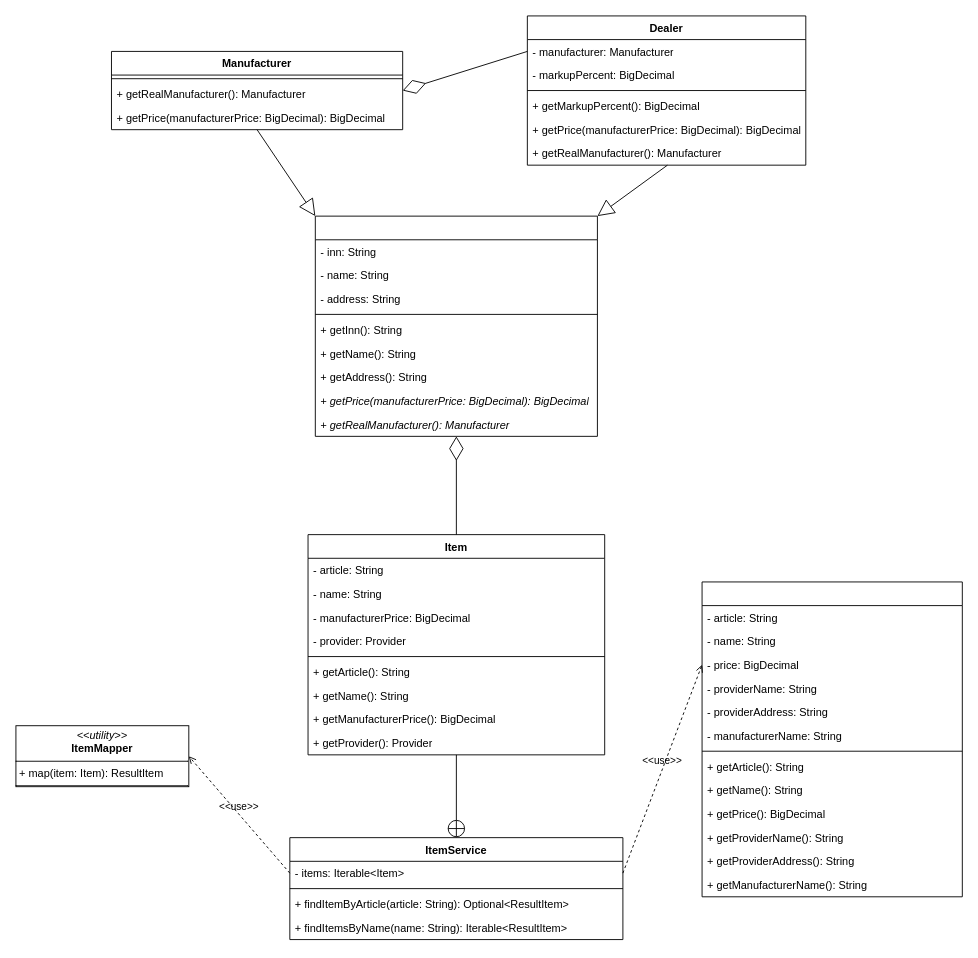
The diagram is 978 pixels wide and 958 high, and some of its shapes have lost their labels. Here are the shapes that lost their labels. From the top down, the box of each, then its label:
(314, 215, 597, 436): Provider
(701, 581, 962, 897): ResultItem
